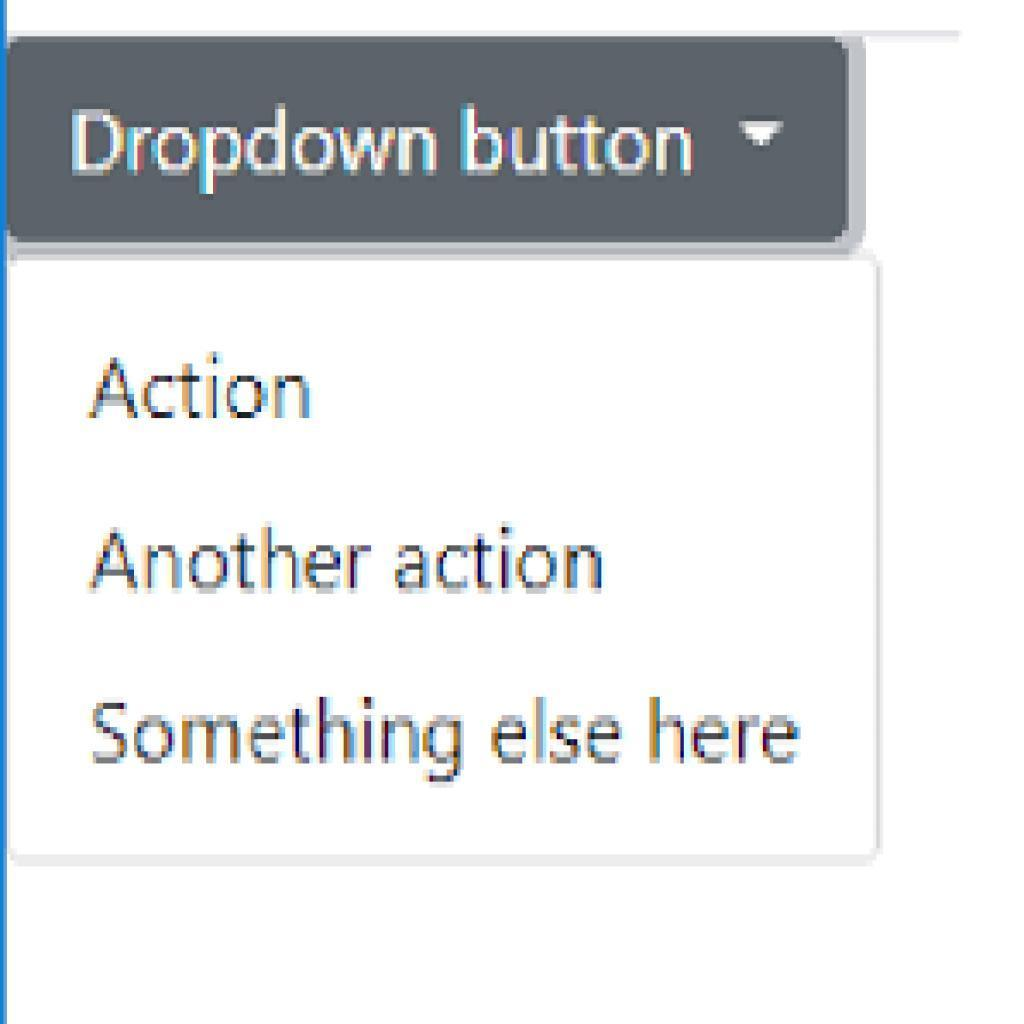dropdown: (7, 36, 866, 256)
label: (88, 695, 805, 795), (87, 528, 609, 601), (85, 352, 317, 427)
